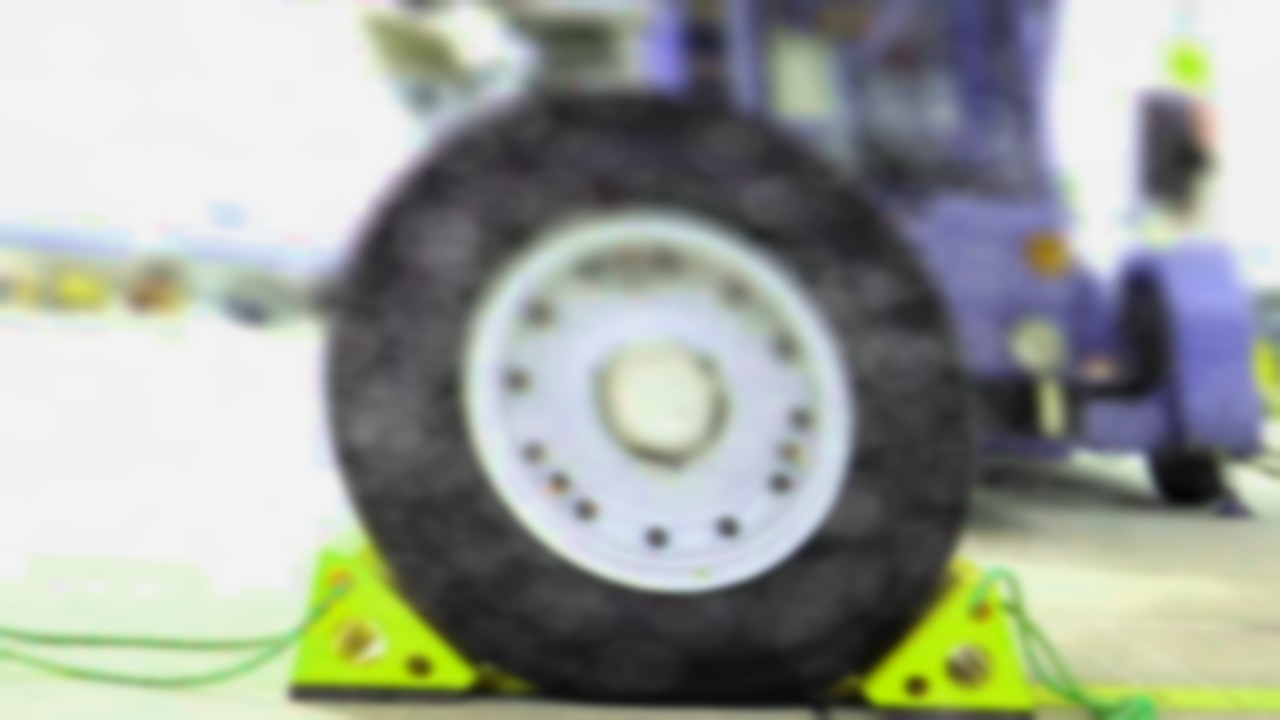chock: (259, 514, 515, 714), (818, 547, 1060, 720)
wheel: (244, 64, 1055, 720), (1142, 444, 1232, 508)
